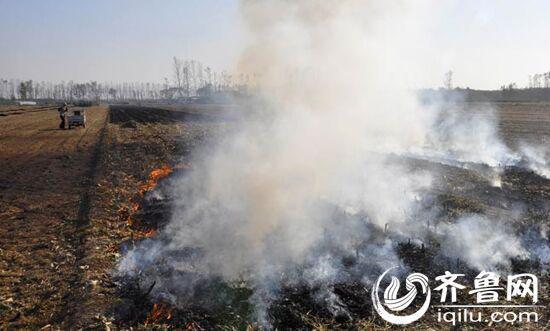fire: (133, 161, 185, 188), (125, 204, 157, 239), (142, 296, 175, 318)
